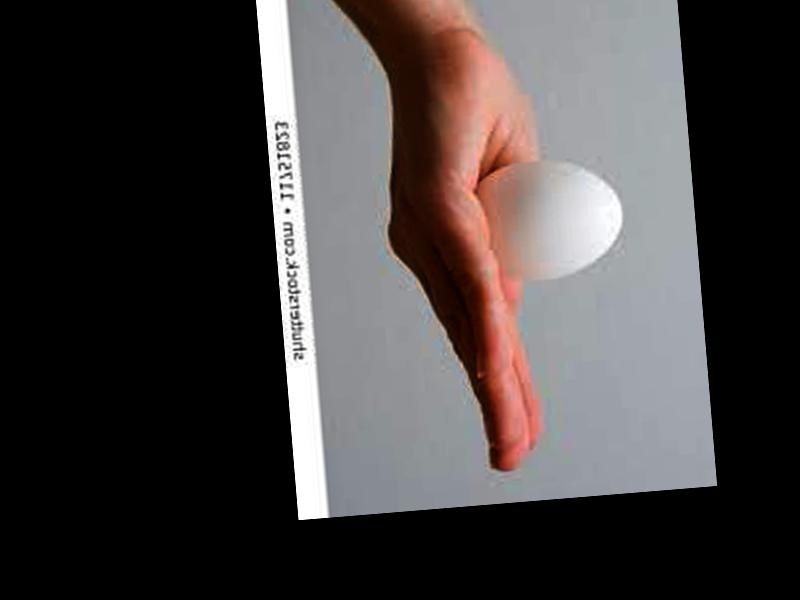Eggs: (473, 160, 626, 284)
